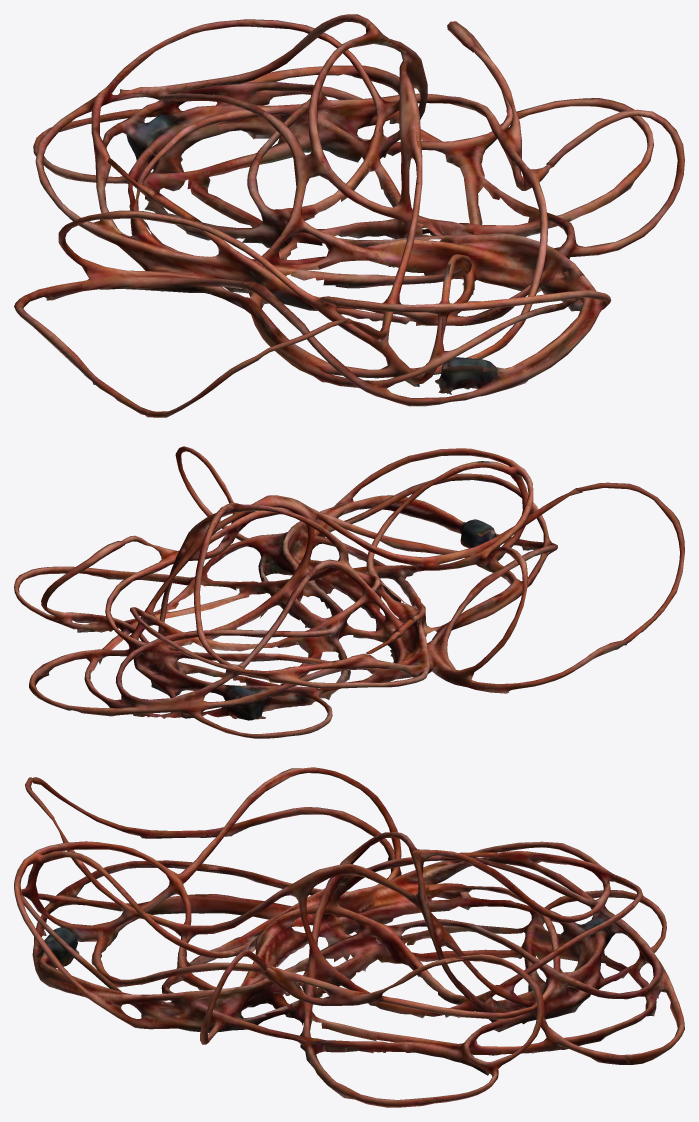
The model's file is extension_cord.glb.
3 views of the same model, one above another, from view 1: azimuth 30°, elevation 25°; view 2: azimuth 150°, elevation 25°; view 3: azimuth 270°, elevation 25° (orthographic). The views are drawn at different scales.
Visible parts, largest first — view 1: ExtensionCord; view 2: ExtensionCord; view 3: ExtensionCord.
Boxes of the visible parts, x1,y1,x2,y2 form: ExtensionCord: [14, 14, 684, 417]; ExtensionCord: [14, 446, 684, 738]; ExtensionCord: [14, 767, 684, 1107].
Size of the model in its own units: 1.38 by 0.3571 by 1.37.
1 material, 1 textured.
